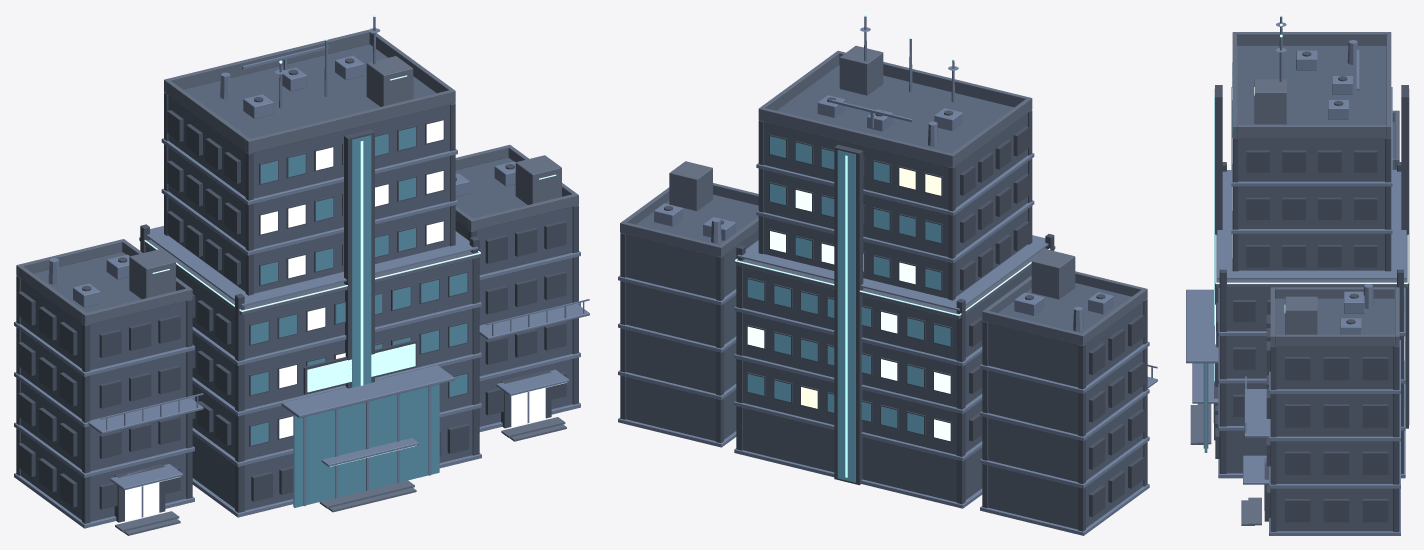
The model's file is agent_hq.glb.
The picture shows the model from 3 angles, left to right: view 1: azimuth 30°, elevation 25°; view 2: azimuth 150°, elevation 25°; view 3: azimuth 270°, elevation 25°; orthographic projection. The views are drawn at different scales.
Visible parts, largest first — view 1: agent_hq_Graphite@corporate, agent_hq_DarkAlloy@corporate, agent_hq_Steel@corporate, agent_hq_Concrete@corporate, agent_hq_BlackGlass, agent_hq_WarmGlass, agent_hq_Cyan; view 2: agent_hq_Graphite@corporate, agent_hq_DarkAlloy@corporate, agent_hq_Steel@corporate, agent_hq_Concrete@corporate, agent_hq_BlackGlass, agent_hq_CoolGlass, agent_hq_Cyan, agent_hq_WarmGlass; view 3: agent_hq_Graphite@corporate, agent_hq_DarkAlloy@corporate, agent_hq_Steel@corporate, agent_hq_Concrete@corporate, agent_hq_Cyan, agent_hq_BlackGlass.
Part boxes in pixels (box(x1,y1,x2,y2)): agent_hq_Graphite@corporate: box(21, 44, 572, 521); agent_hq_DarkAlloy@corporate: box(16, 44, 578, 523); agent_hq_Steel@corporate: box(14, 17, 589, 528); agent_hq_Concrete@corporate: box(16, 29, 578, 535); agent_hq_BlackGlass: box(251, 127, 467, 507); agent_hq_WarmGlass: box(125, 120, 545, 521); agent_hq_Cyan: box(125, 14, 566, 490); agent_hq_Graphite@corporate: box(626, 65, 1143, 529); agent_hq_DarkAlloy@corporate: box(620, 65, 1147, 531); agent_hq_Steel@corporate: box(618, 16, 1157, 535); agent_hq_Concrete@corporate: box(620, 45, 1147, 345); agent_hq_BlackGlass: box(747, 136, 950, 482); agent_hq_CoolGlass: box(747, 190, 950, 441); agent_hq_Cyan: box(735, 14, 1055, 477); agent_hq_WarmGlass: box(801, 168, 941, 408); agent_hq_Graphite@corporate: box(1227, 45, 1394, 531); agent_hq_DarkAlloy@corporate: box(1214, 45, 1408, 531); agent_hq_Steel@corporate: box(1186, 16, 1406, 535); agent_hq_Concrete@corporate: box(1190, 32, 1407, 525); agent_hq_Cyan: box(1214, 14, 1409, 417); agent_hq_BlackGlass: box(1204, 62, 1409, 452).
Size of the model in its own units: 35.36 by 29.65 by 14.58.
